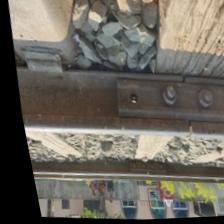person: (167, 115, 201, 145), (170, 69, 189, 87), (136, 169, 145, 179)
